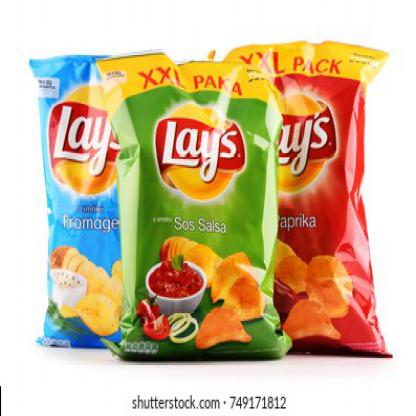potatochip: (204, 34, 399, 366), (92, 50, 296, 366), (24, 45, 198, 353)
